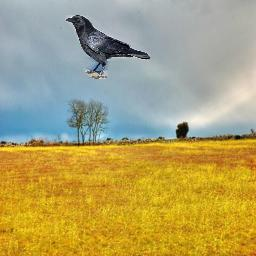Crow: (65, 15, 151, 79)
